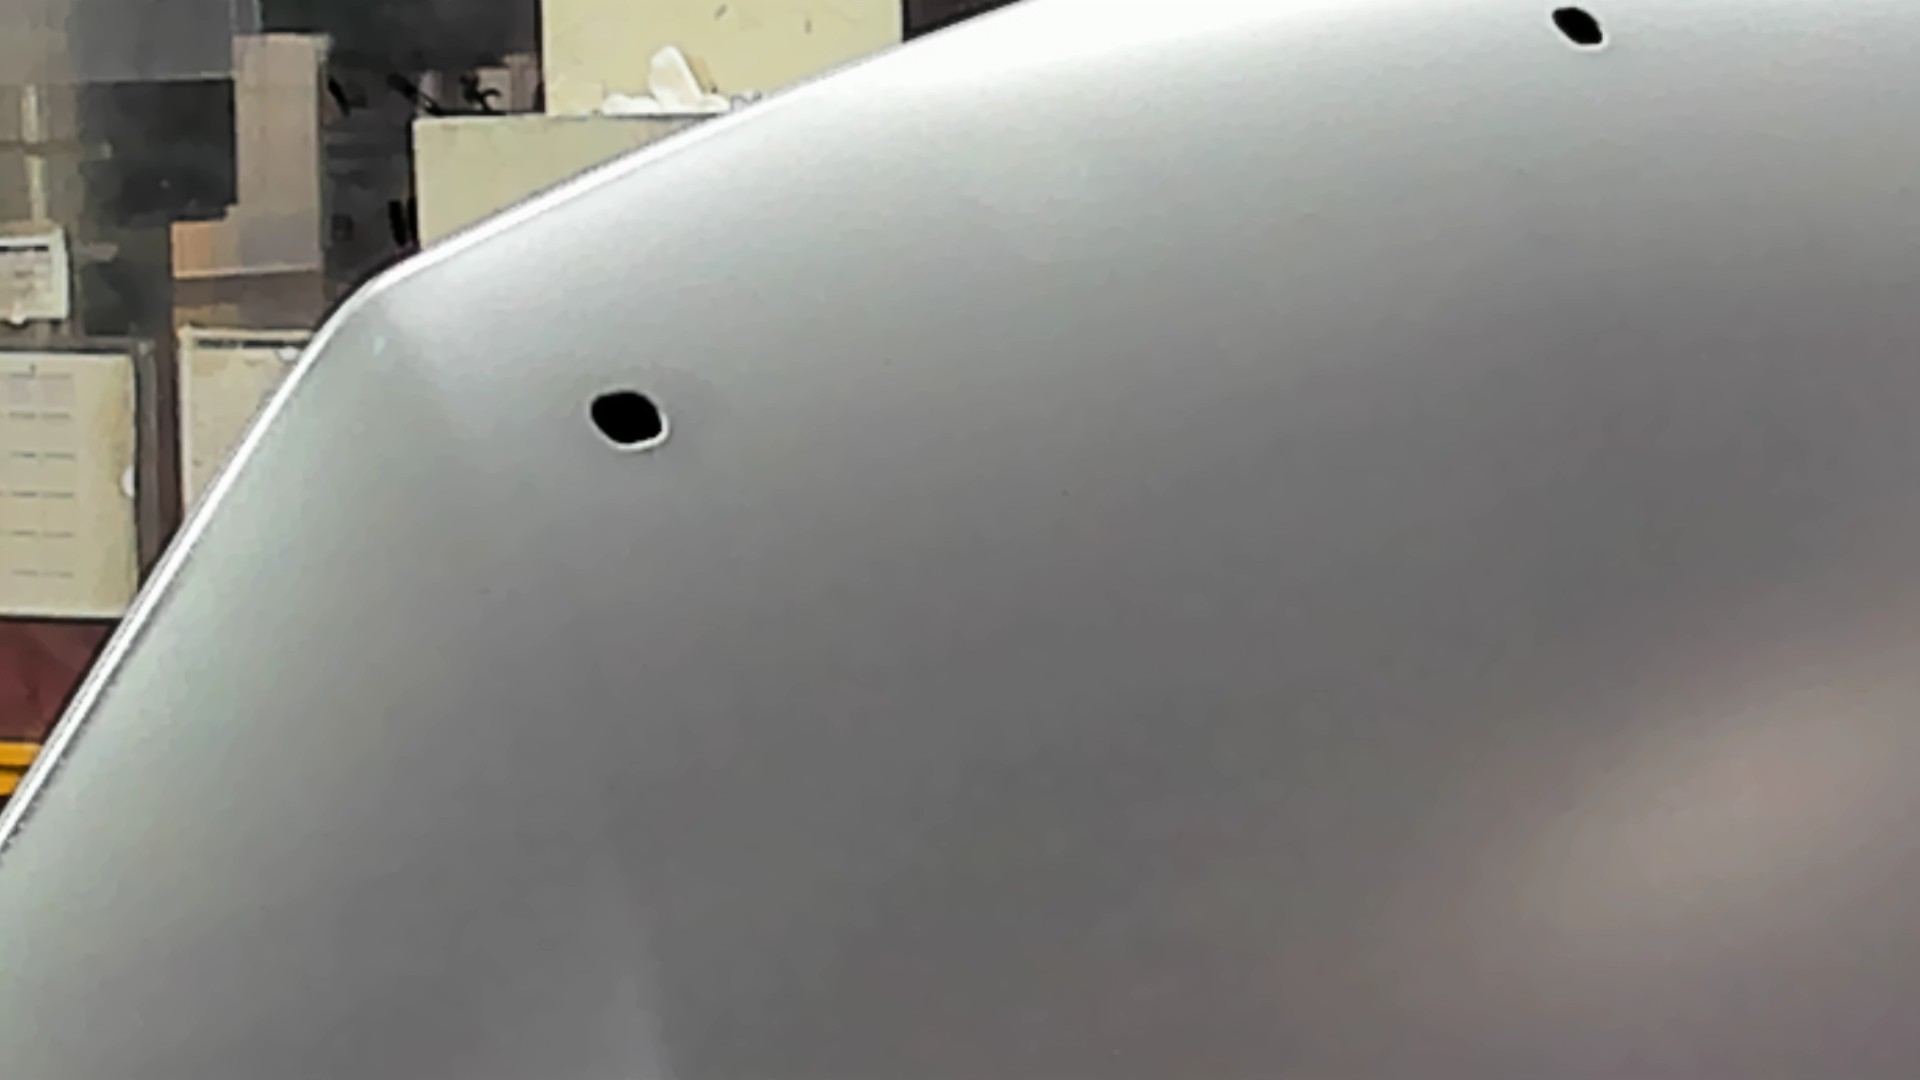amorfo: (580, 382, 678, 456), (1542, 1, 1611, 59)
capo: (822, 128, 1920, 1080)
